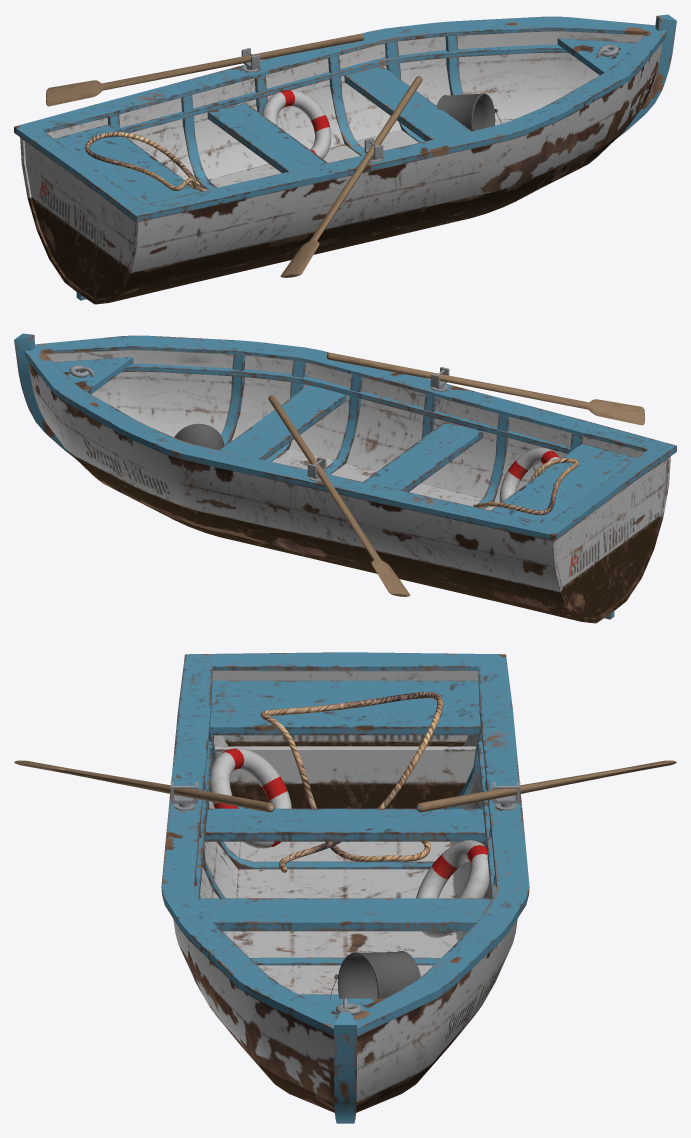
The picture shows the model from 3 angles, top to bottom: view 1: azimuth 30°, elevation 25°; view 2: azimuth 150°, elevation 25°; view 3: azimuth 270°, elevation 25°; orthographic projection. The views are drawn at different scales.
Visible parts, largest first — view 1: Boat_Outside_LP, Sit_Back_LP, Frame_Inside_LP, Sit_Front_LP, Sit_Middle_LP, Frame_Around_Inside_LP, Pedal_LP.001, Pedal_LP, Circle_LP.001, Floor_LP, Bucket_LP, Boat_Front_LP (+3 smaller); view 2: Boat_Outside_LP, Sit_Back_LP, Frame_Inside_LP, Sit_Front_LP, Frame_Around_Inside_LP, Sit_Middle_LP, Pedal_LP, Pedal_LP.001, Floor_LP, Boat_Front_LP, Frame_Outside_LP, Circle_LP (+3 smaller); view 3: Boat_Outside_LP, Floor_LP, Sit_Back_LP, LowerPart_Sit_Back_LP, Sit_Middle_LP, Sit_Front_LP, Frame_Inside_LP, Rope_LP, Bucket_LP, Circle_LP, Circle_LP.001, Frame_Outside_LP (+4 smaller).
Boxes of the visible parts, <box> form: Boat_Outside_LP: <box>14,16,667,304</box>; Sit_Back_LP: <box>54,124,199,204</box>; Frame_Inside_LP: <box>107,35,462,188</box>; Sit_Front_LP: <box>344,66,470,141</box>; Sit_Middle_LP: <box>207,103,327,173</box>; Frame_Around_Inside_LP: <box>118,44,568,132</box>; Pedal_LP.001: <box>46,33,364,106</box>; Pedal_LP: <box>280,76,422,277</box>; Circle_LP.001: <box>261,90,331,158</box>; Floor_LP: <box>191,118,515,188</box>; Bucket_LP: <box>437,93,495,130</box>; Boat_Front_LP: <box>557,38,637,75</box>; Boat_Outside_LP: <box>24,335,676,623</box>; Sit_Back_LP: <box>491,443,636,523</box>; Frame_Inside_LP: <box>221,354,583,508</box>; Sit_Front_LP: <box>220,385,346,460</box>; Frame_Around_Inside_LP: <box>122,363,572,453</box>; Sit_Middle_LP: <box>363,422,483,492</box>; Pedal_LP: <box>326,352,644,425</box>; Pedal_LP.001: <box>268,395,410,596</box>; Floor_LP: <box>224,441,495,510</box>; Boat_Front_LP: <box>53,357,133,394</box>; Frame_Outside_LP: <box>14,333,614,619</box>; Circle_LP: <box>499,447,559,502</box>; Boat_Outside_LP: <box>161,652,529,1112</box>; Floor_LP: <box>233,841,457,994</box>; Sit_Back_LP: <box>210,680,480,735</box>; LowerPart_Sit_Back_LP: <box>214,746,476,808</box>; Sit_Middle_LP: <box>205,808,485,841</box>; Sit_Front_LP: <box>199,898,491,931</box>; Frame_Inside_LP: <box>195,726,495,998</box>; Rope_LP: <box>260,692,443,872</box>; Bucket_LP: <box>337,951,420,998</box>; Circle_LP: <box>209,748,291,848</box>; Circle_LP.001: <box>416,840,489,937</box>; Frame_Outside_LP: <box>334,1010,356,1123</box>.
Size of the model in its own units: 5.63 by 1.51 by 4.13.
3 materials, 3 textured.
